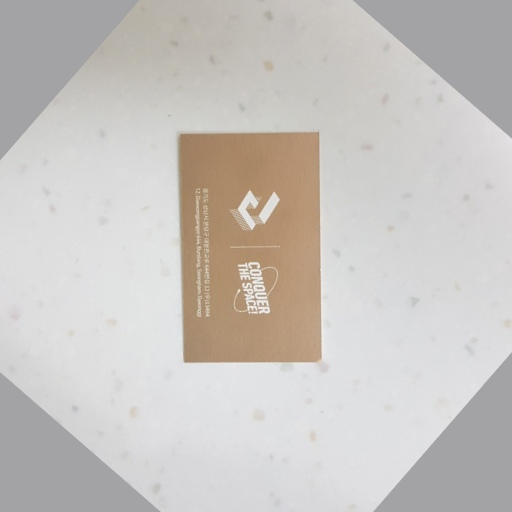Paper_2: (171, 124, 336, 370)
